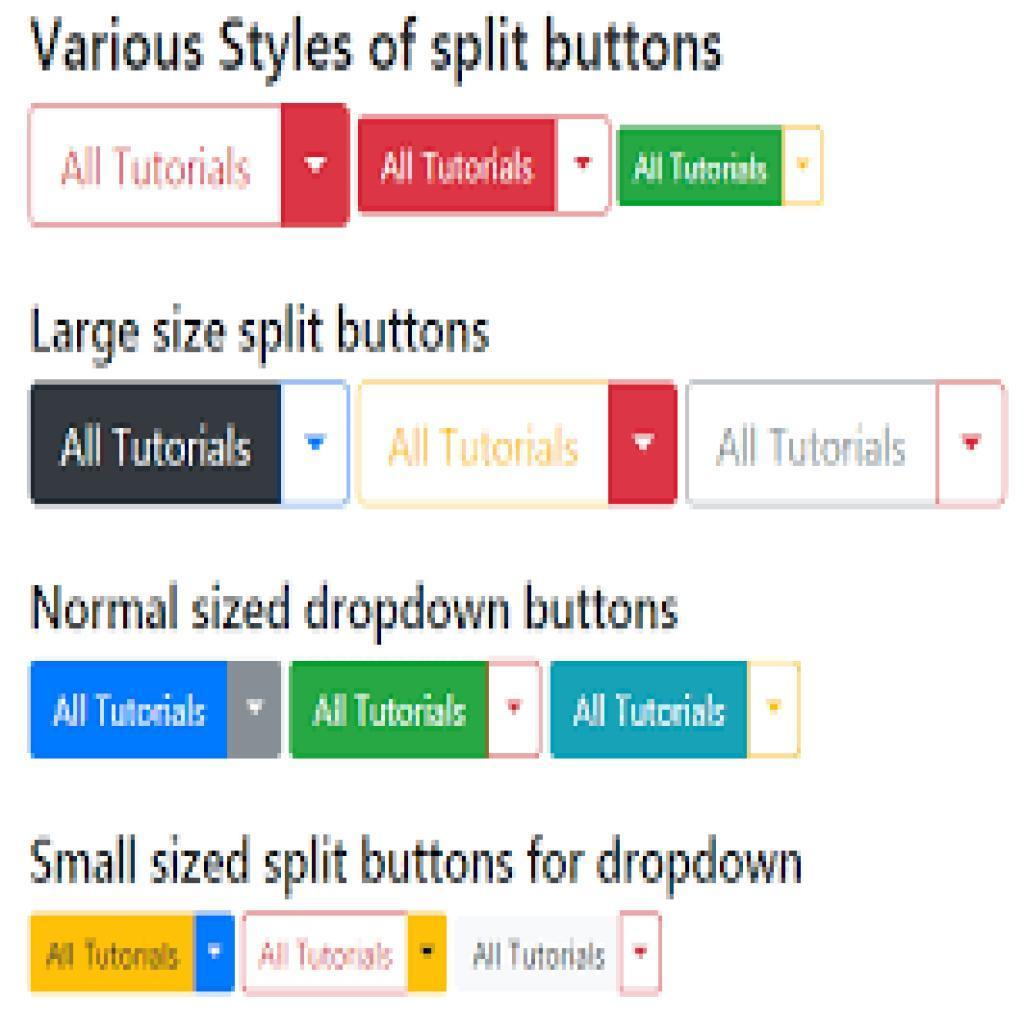dropdown: (29, 103, 352, 229), (356, 383, 680, 508), (688, 382, 1005, 508), (33, 383, 350, 505), (30, 659, 281, 761), (356, 117, 610, 216), (552, 663, 802, 762), (290, 662, 544, 758), (29, 911, 235, 995), (246, 910, 450, 994), (458, 913, 664, 995), (618, 126, 822, 204)
